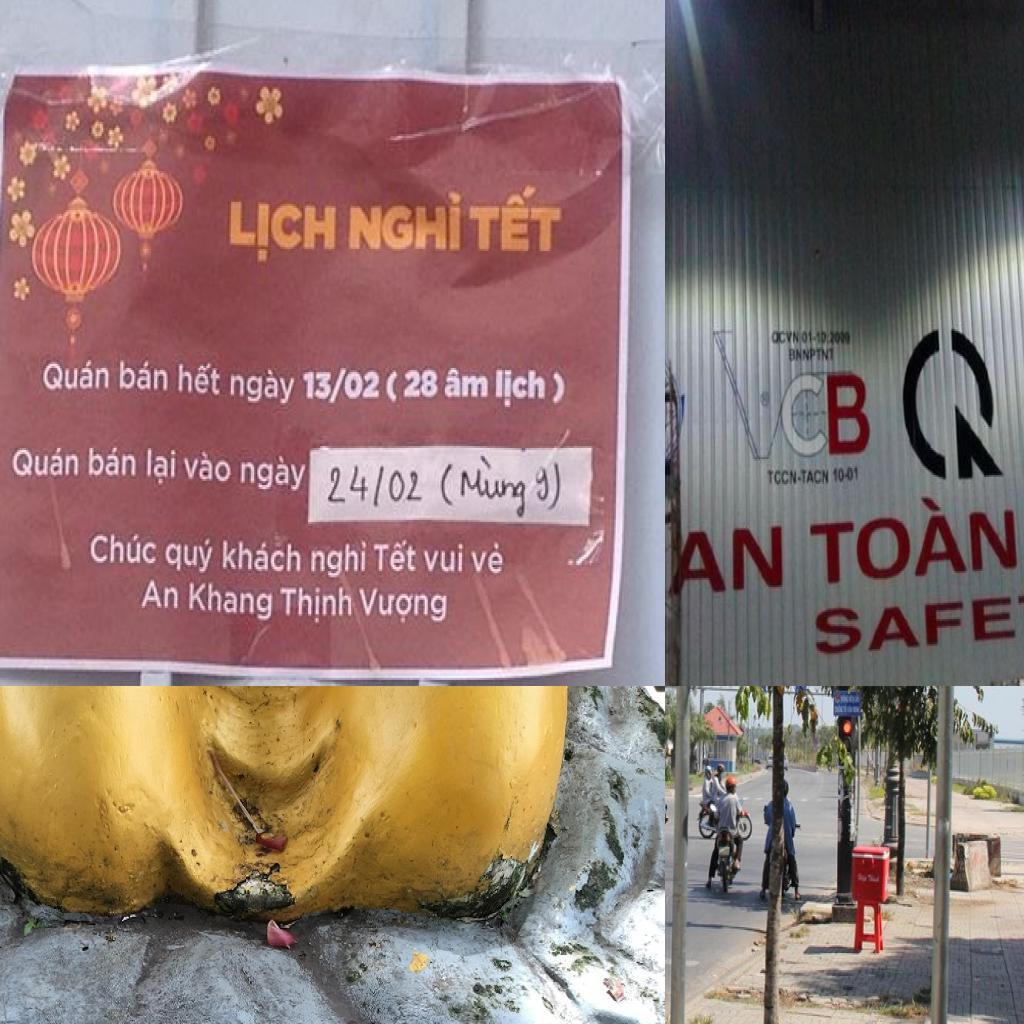text: (804, 483, 1024, 590), (812, 579, 1024, 663), (665, 521, 785, 599), (347, 183, 468, 259), (779, 368, 871, 461), (228, 198, 342, 265), (470, 184, 565, 262), (456, 450, 530, 520), (186, 582, 274, 624), (240, 448, 308, 499), (9, 440, 85, 483), (222, 536, 305, 575), (276, 584, 352, 624), (88, 532, 160, 573), (228, 366, 297, 407), (490, 362, 548, 409), (308, 534, 371, 577), (43, 356, 113, 392), (322, 460, 372, 508), (182, 446, 234, 491), (174, 356, 223, 403), (162, 534, 218, 575), (114, 354, 171, 394), (142, 442, 182, 491), (424, 538, 468, 580), (86, 444, 137, 479), (139, 573, 180, 616), (373, 538, 422, 573), (471, 536, 507, 582), (385, 466, 427, 504), (339, 366, 383, 401), (444, 364, 488, 399), (404, 362, 440, 403), (300, 364, 338, 401), (524, 456, 551, 508), (765, 468, 830, 487), (322, 368, 351, 405), (368, 458, 387, 514), (786, 347, 836, 363), (832, 462, 862, 488)
